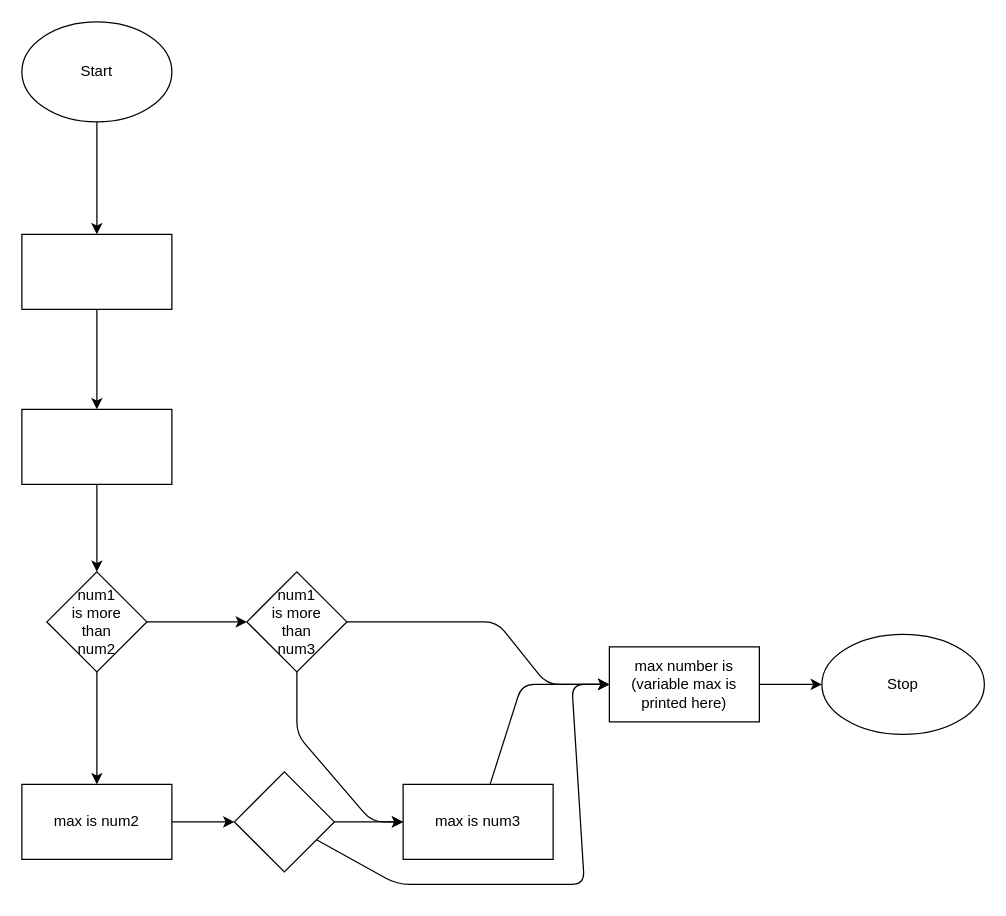
This 1006x916 diagram has some shape labels left out. Each missing label, with the centre of its shape:
max is num1: point (96, 446)
num1, num2, num3: point (96, 271)
num2 is more than num3: point (283, 821)
